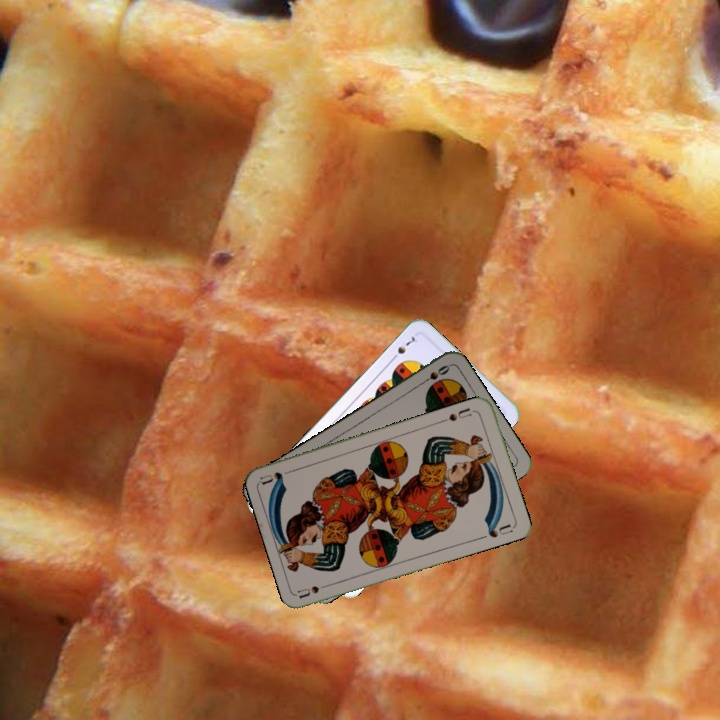S7: (387, 332, 420, 363)
SO: (415, 361, 452, 388)
SU: (295, 579, 335, 601), (445, 404, 478, 424)
